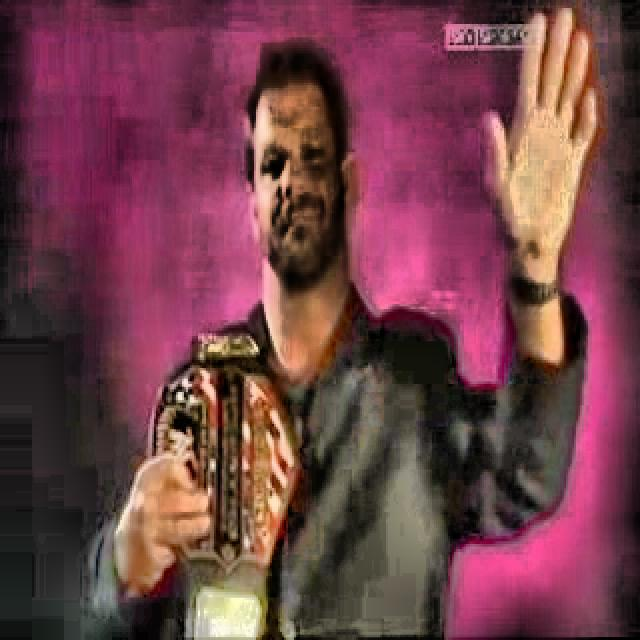L: (88, 28, 589, 640)
